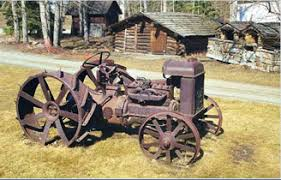rust: (17, 51, 227, 167)
